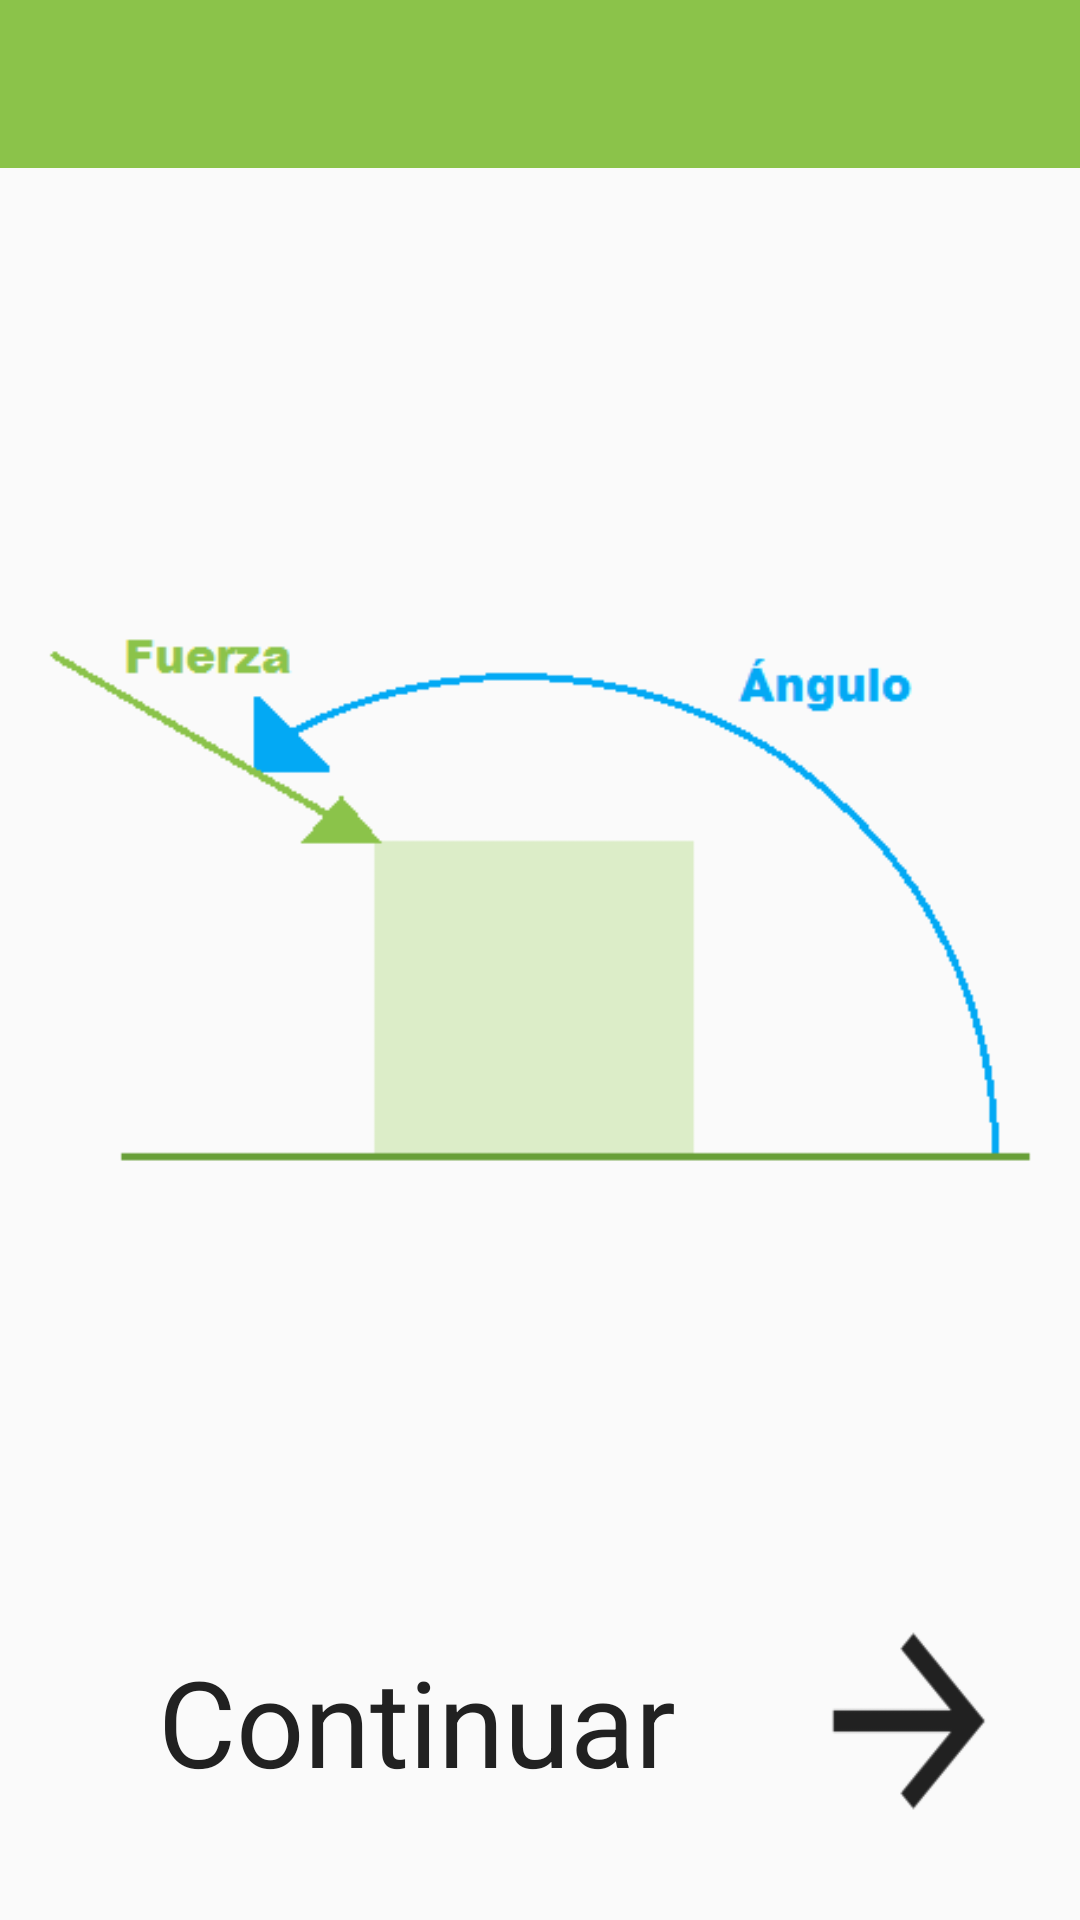

Icons on this 1080 × 1920 Android screen, each with its box as {"x1": x1, "y1": y1, "x2": x2, "y2": y2}:
arrow: {"x1": 832, "y1": 1632, "x2": 985, "y2": 1810}
